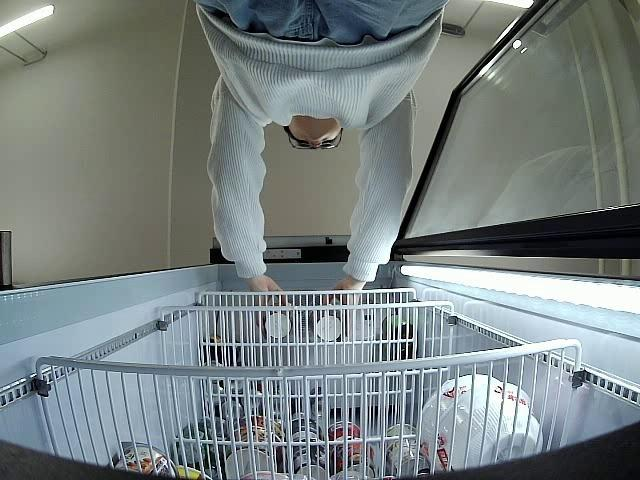06_nuguri_S: (310, 310, 342, 342), (264, 304, 292, 338)
